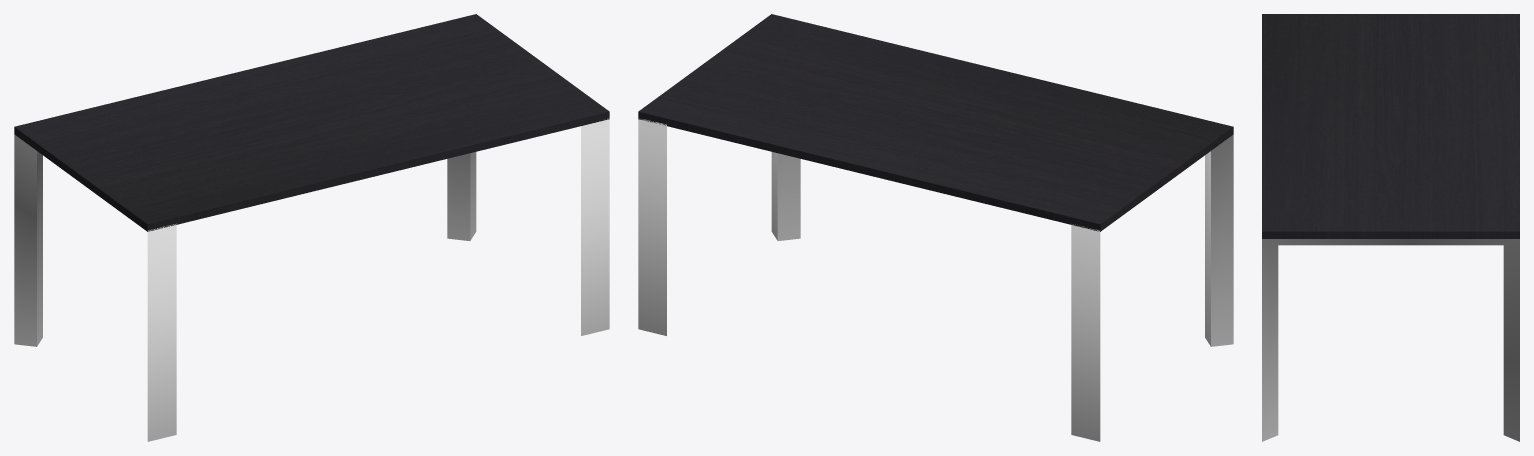
Rendered from scrivania160W.obj.
3 renders of one model, left to right at view 1: azimuth 30°, elevation 25°; view 2: azimuth 150°, elevation 25°; view 3: azimuth 270°, elevation 25°, orthographic. The views are drawn at different scales.
Visible parts, largest first — view 1: Box34_4, Loft01_2, Loft02_1; view 2: Box34_4, Loft01_2, Loft02_1; view 3: Box34_4, Loft02_1.
Part boxes in pixels (x1=…): Box34_4: x1=14, y1=14, x2=609, y2=231; Loft01_2: x1=14, y1=134, x2=176, y2=441; Loft02_1: x1=447, y1=118, x2=609, y2=335; Box34_4: x1=638, y1=14, x2=1233, y2=231; Loft01_2: x1=1071, y1=134, x2=1233, y2=441; Loft02_1: x1=638, y1=118, x2=800, y2=335; Box34_4: x1=1262, y1=14, x2=1519, y2=238; Loft02_1: x1=1262, y1=239, x2=1519, y2=441.
Bounding box in the file's own units: 160 × 72 × 80.
